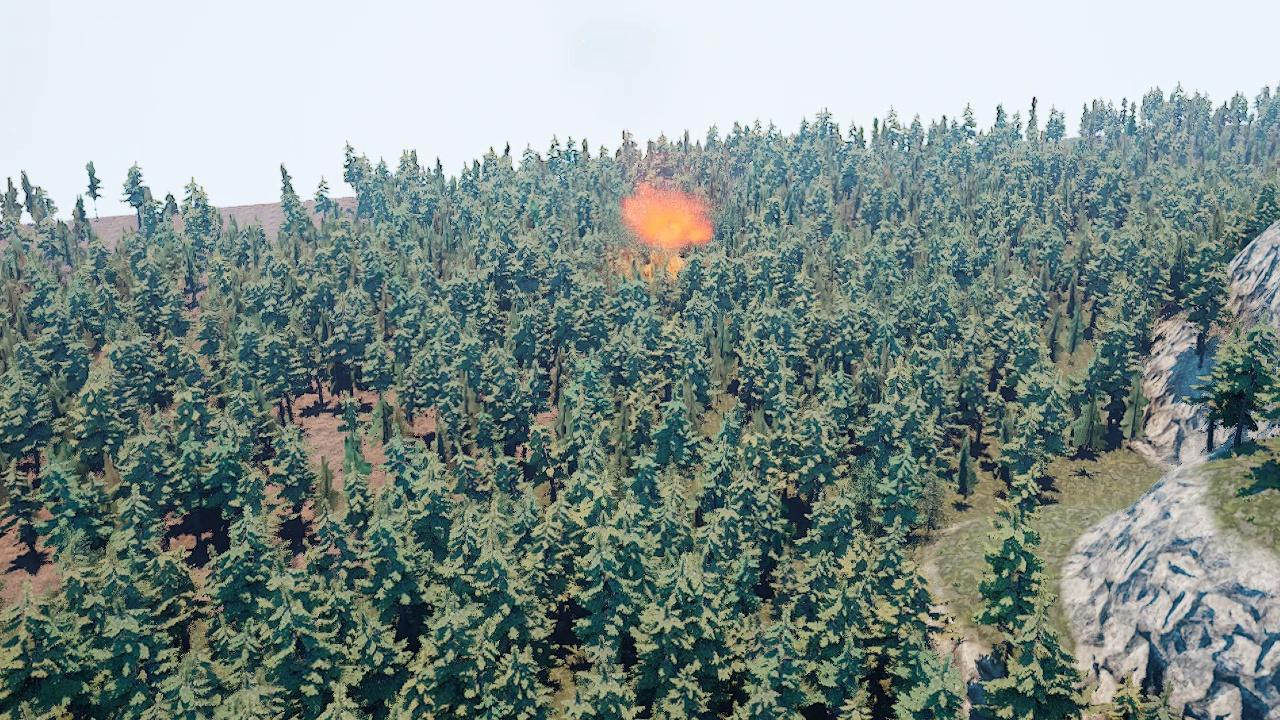fire: (620, 185, 715, 278)
